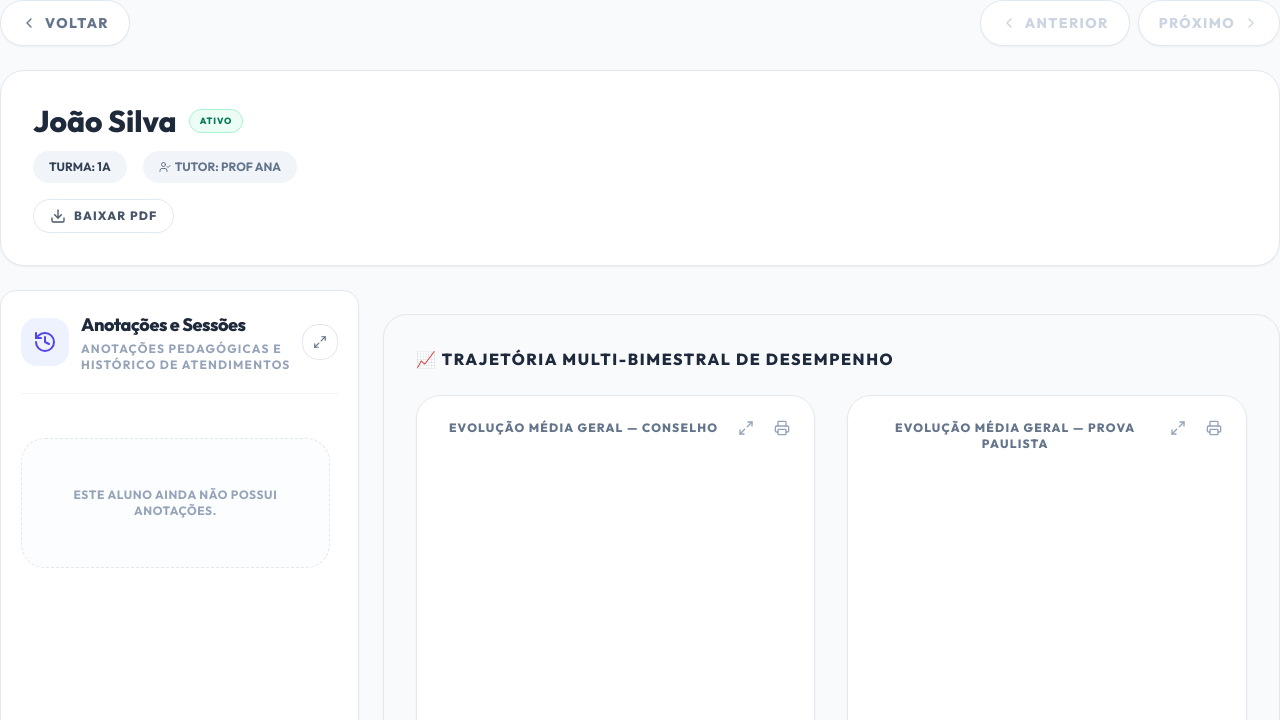
Test: StudentProfile — seção de anotações › exibe a impressora à esquerda de Fechar na sidebar expandida
Click the button named "expandir sidebar lateralmente" at (320,342), box [302, 324, 338, 360]
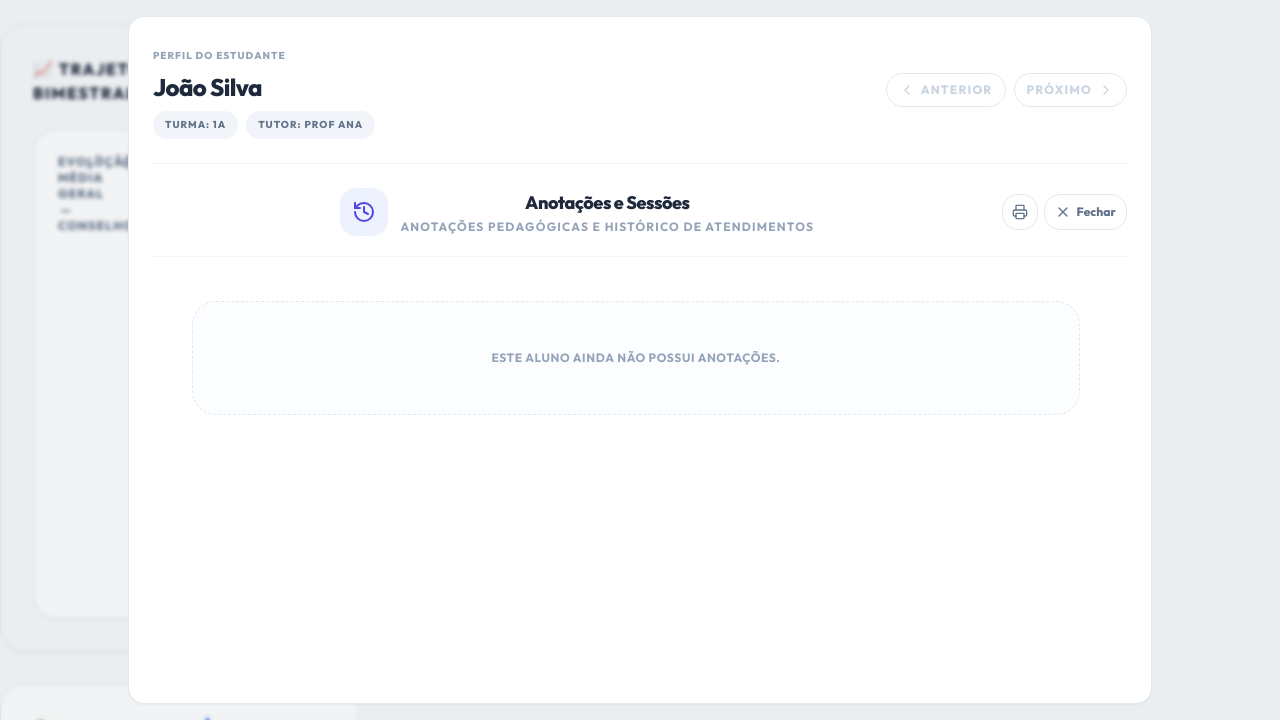
Result: the button named "imprimir anotações e sessões" is shown at [1002, 194, 1038, 230]
